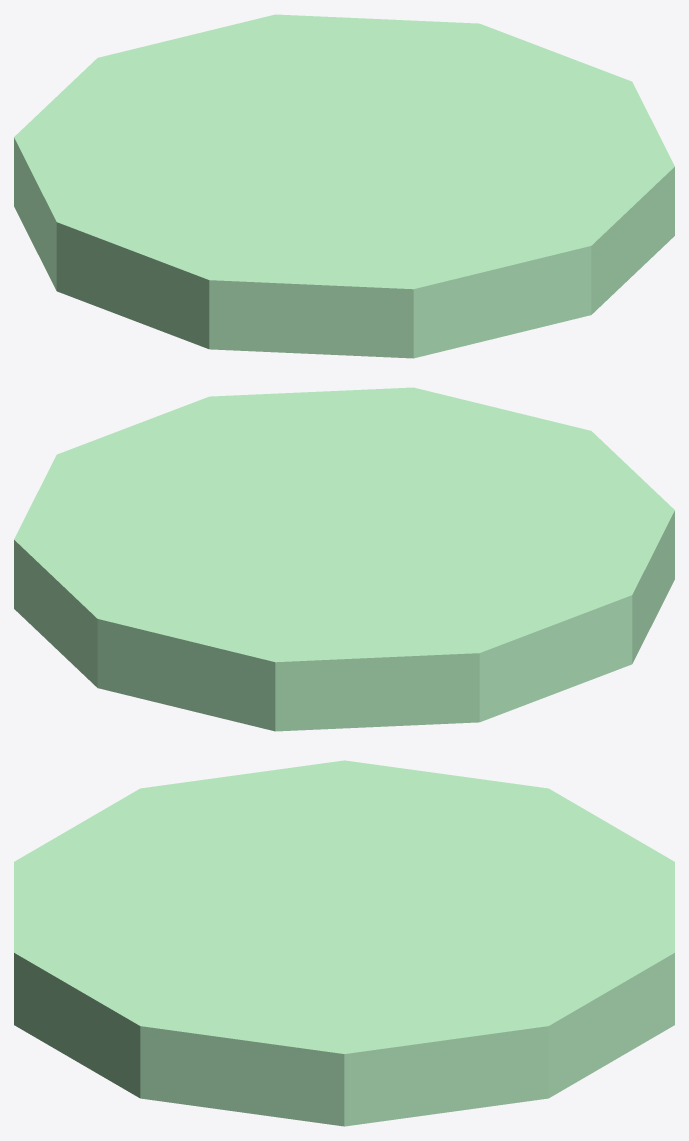
Rendered from patchModelTutorial.gltf.
The picture shows the model from 3 angles, top to bottom: view 1: azimuth 30°, elevation 25°; view 2: azimuth 150°, elevation 25°; view 3: azimuth 270°, elevation 25°; orthographic projection. The views are drawn at different scales.
Visible parts, largest first — view 1: pCylinder6; view 2: pCylinder6; view 3: pCylinder6.
Boxes of the visible parts, box(x1,y1,x2,y2) form: pCylinder6: box(14, 14, 674, 358); pCylinder6: box(14, 387, 674, 731); pCylinder6: box(14, 760, 674, 1126).
Size of the model in its own units: 1.74 by 0.2 by 1.65.
